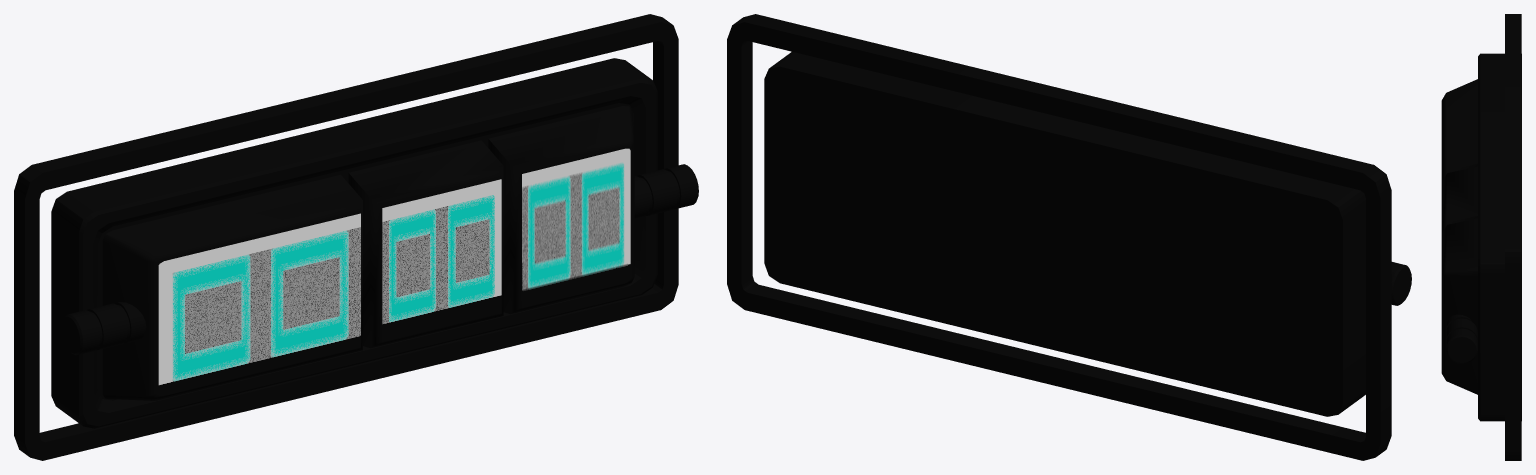
File: Hangar_WallClock_01.fbx
The picture shows the model from 3 angles, left to right: view 1: azimuth 30°, elevation 25°; view 2: azimuth 150°, elevation 25°; view 3: azimuth 270°, elevation 25°; orthographic projection. The views are drawn at different scales.
Visible parts, largest first — view 1: WallClock_01; view 2: WallClock_01; view 3: WallClock_01.
Part boxes in pixels (x1,y1,x2,y2): WallClock_01: (14,14,698,460); WallClock_01: (727,14,1411,460); WallClock_01: (1441,14,1521,460).
Size of the model in its own units: 519 by 218 by 74.31.
